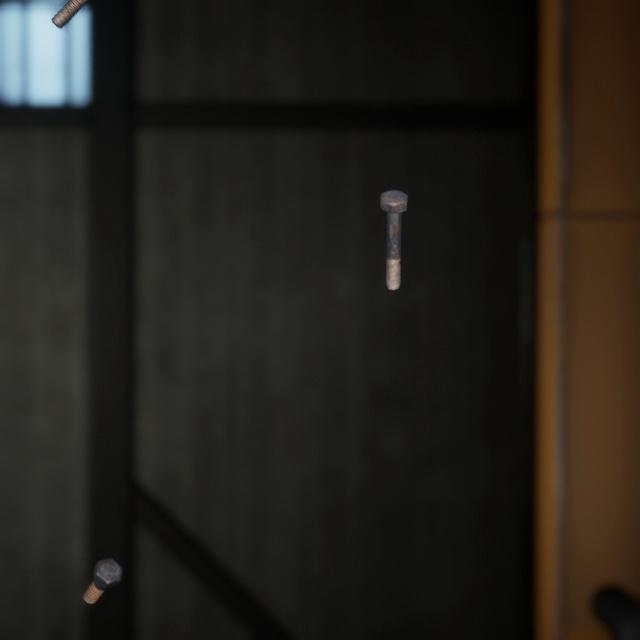bolt: (375, 170, 412, 279), (78, 530, 126, 585), (47, 0, 88, 27)
